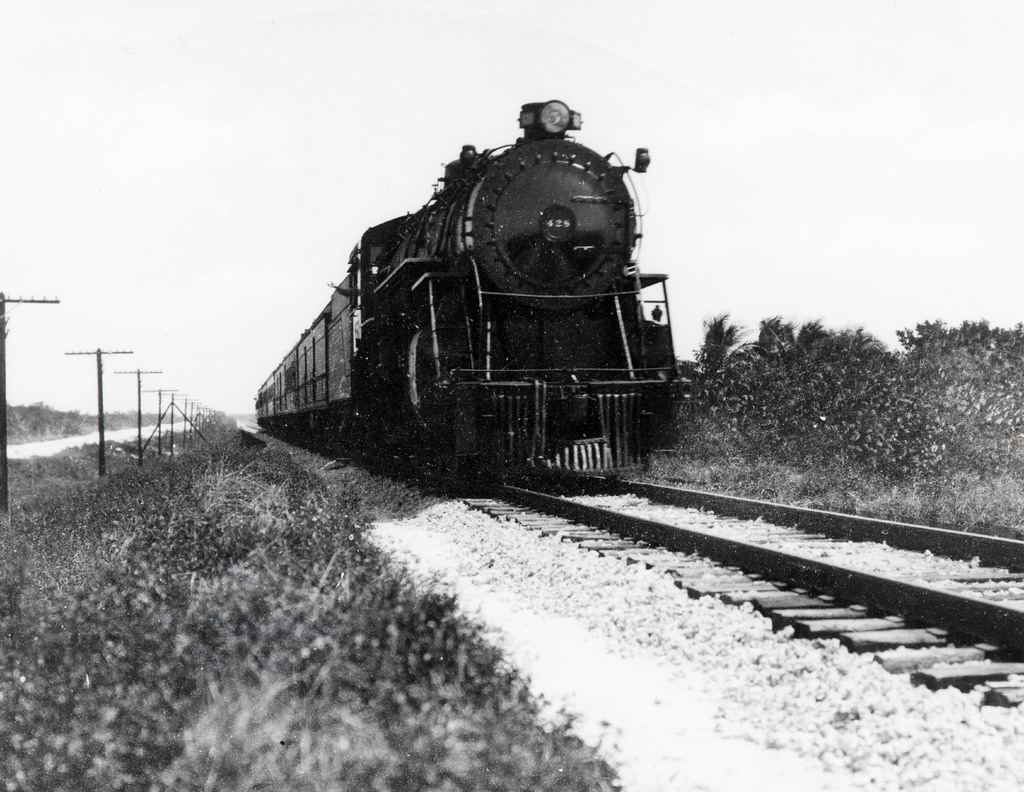train: (252, 102, 691, 491)
